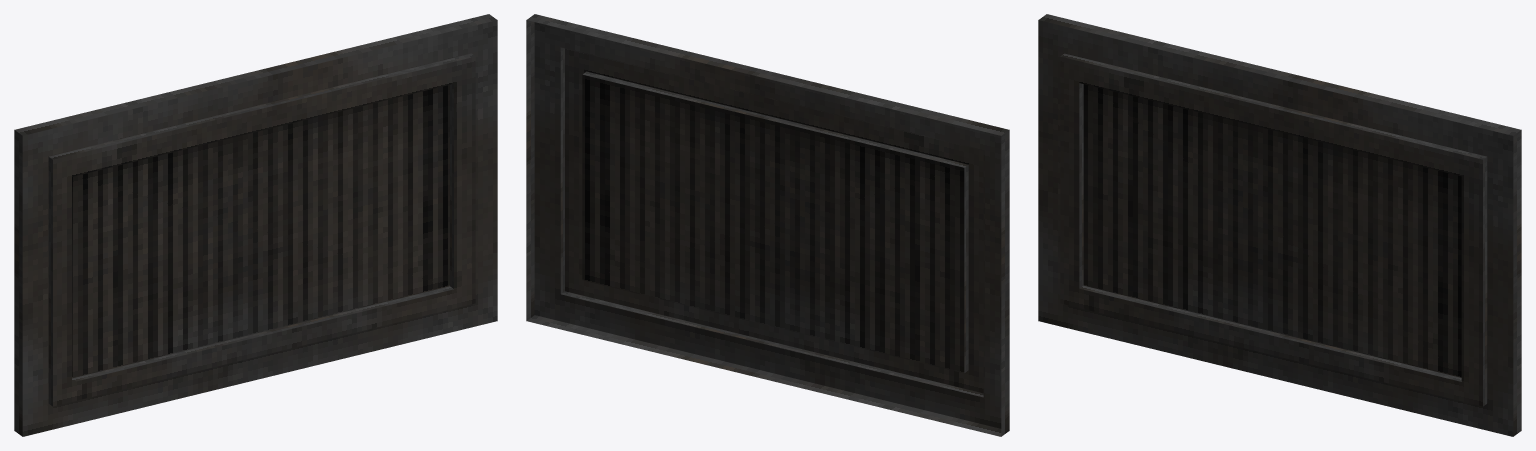
File: vent_mp_1.glb
The picture shows the model from 3 angles, left to right: view 1: azimuth 30°, elevation 25°; view 2: azimuth 150°, elevation 25°; view 3: azimuth 330°, elevation 25°; orthographic projection.
Visible parts, largest first — view 1: vent_mp_1; view 2: vent_mp_1; view 3: vent_mp_1.
Part boxes in pixels (left/top/right/bottom): vent_mp_1: left=14, top=14, right=497, bottom=436; vent_mp_1: left=526, top=14, right=1009, bottom=436; vent_mp_1: left=1038, top=14, right=1521, bottom=436.
Size of the model in its own units: 0.33 by 0.2 by 0.015.
1 material, 1 textured.
